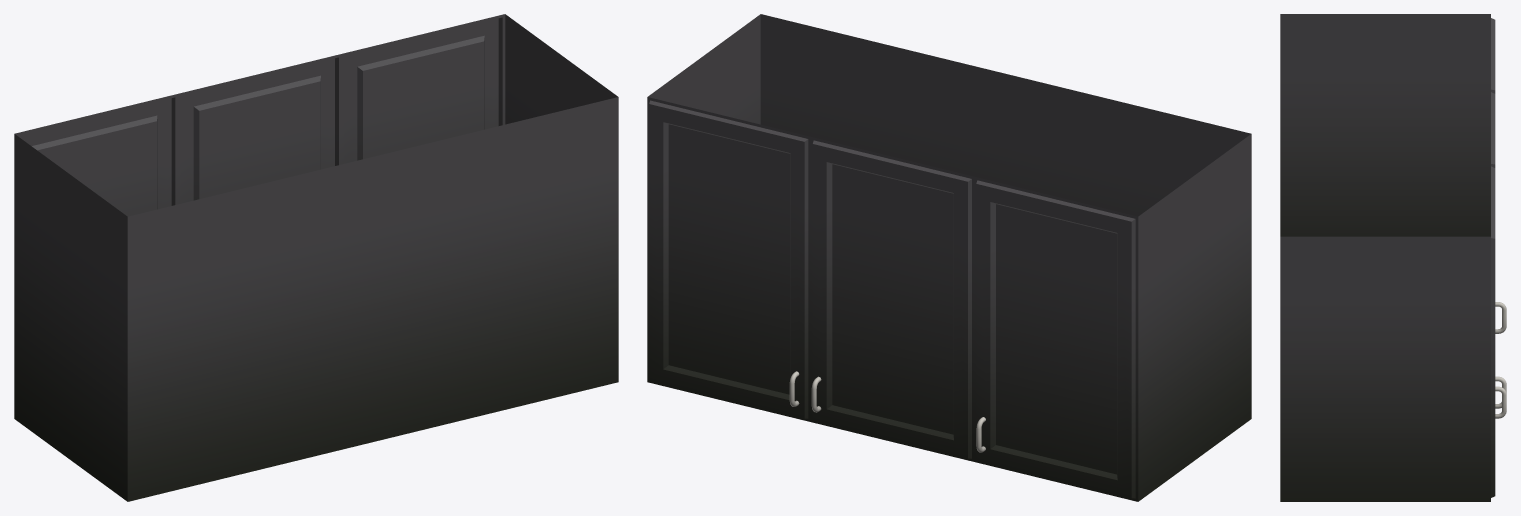
The model's file is CounterHigh.gltf.
3 views of the same model, side by side, from view 1: azimuth 30°, elevation 25°; view 2: azimuth 150°, elevation 25°; view 3: azimuth 270°, elevation 25° (orthographic). The views are drawn at different scales.
Parts seen in each view (by area): view 1: CounterHigh; view 2: CounterHigh; view 3: CounterHigh.
Boxes of the visible parts, box(x1,y1,x2,y2) form: CounterHigh: box(14, 14, 618, 501); CounterHigh: box(647, 14, 1251, 501); CounterHigh: box(1280, 14, 1506, 501).
Bounding box in the file's own units: 2 × 1.11 × 0.8595.
Materials: 1 (1 with a texture image).
